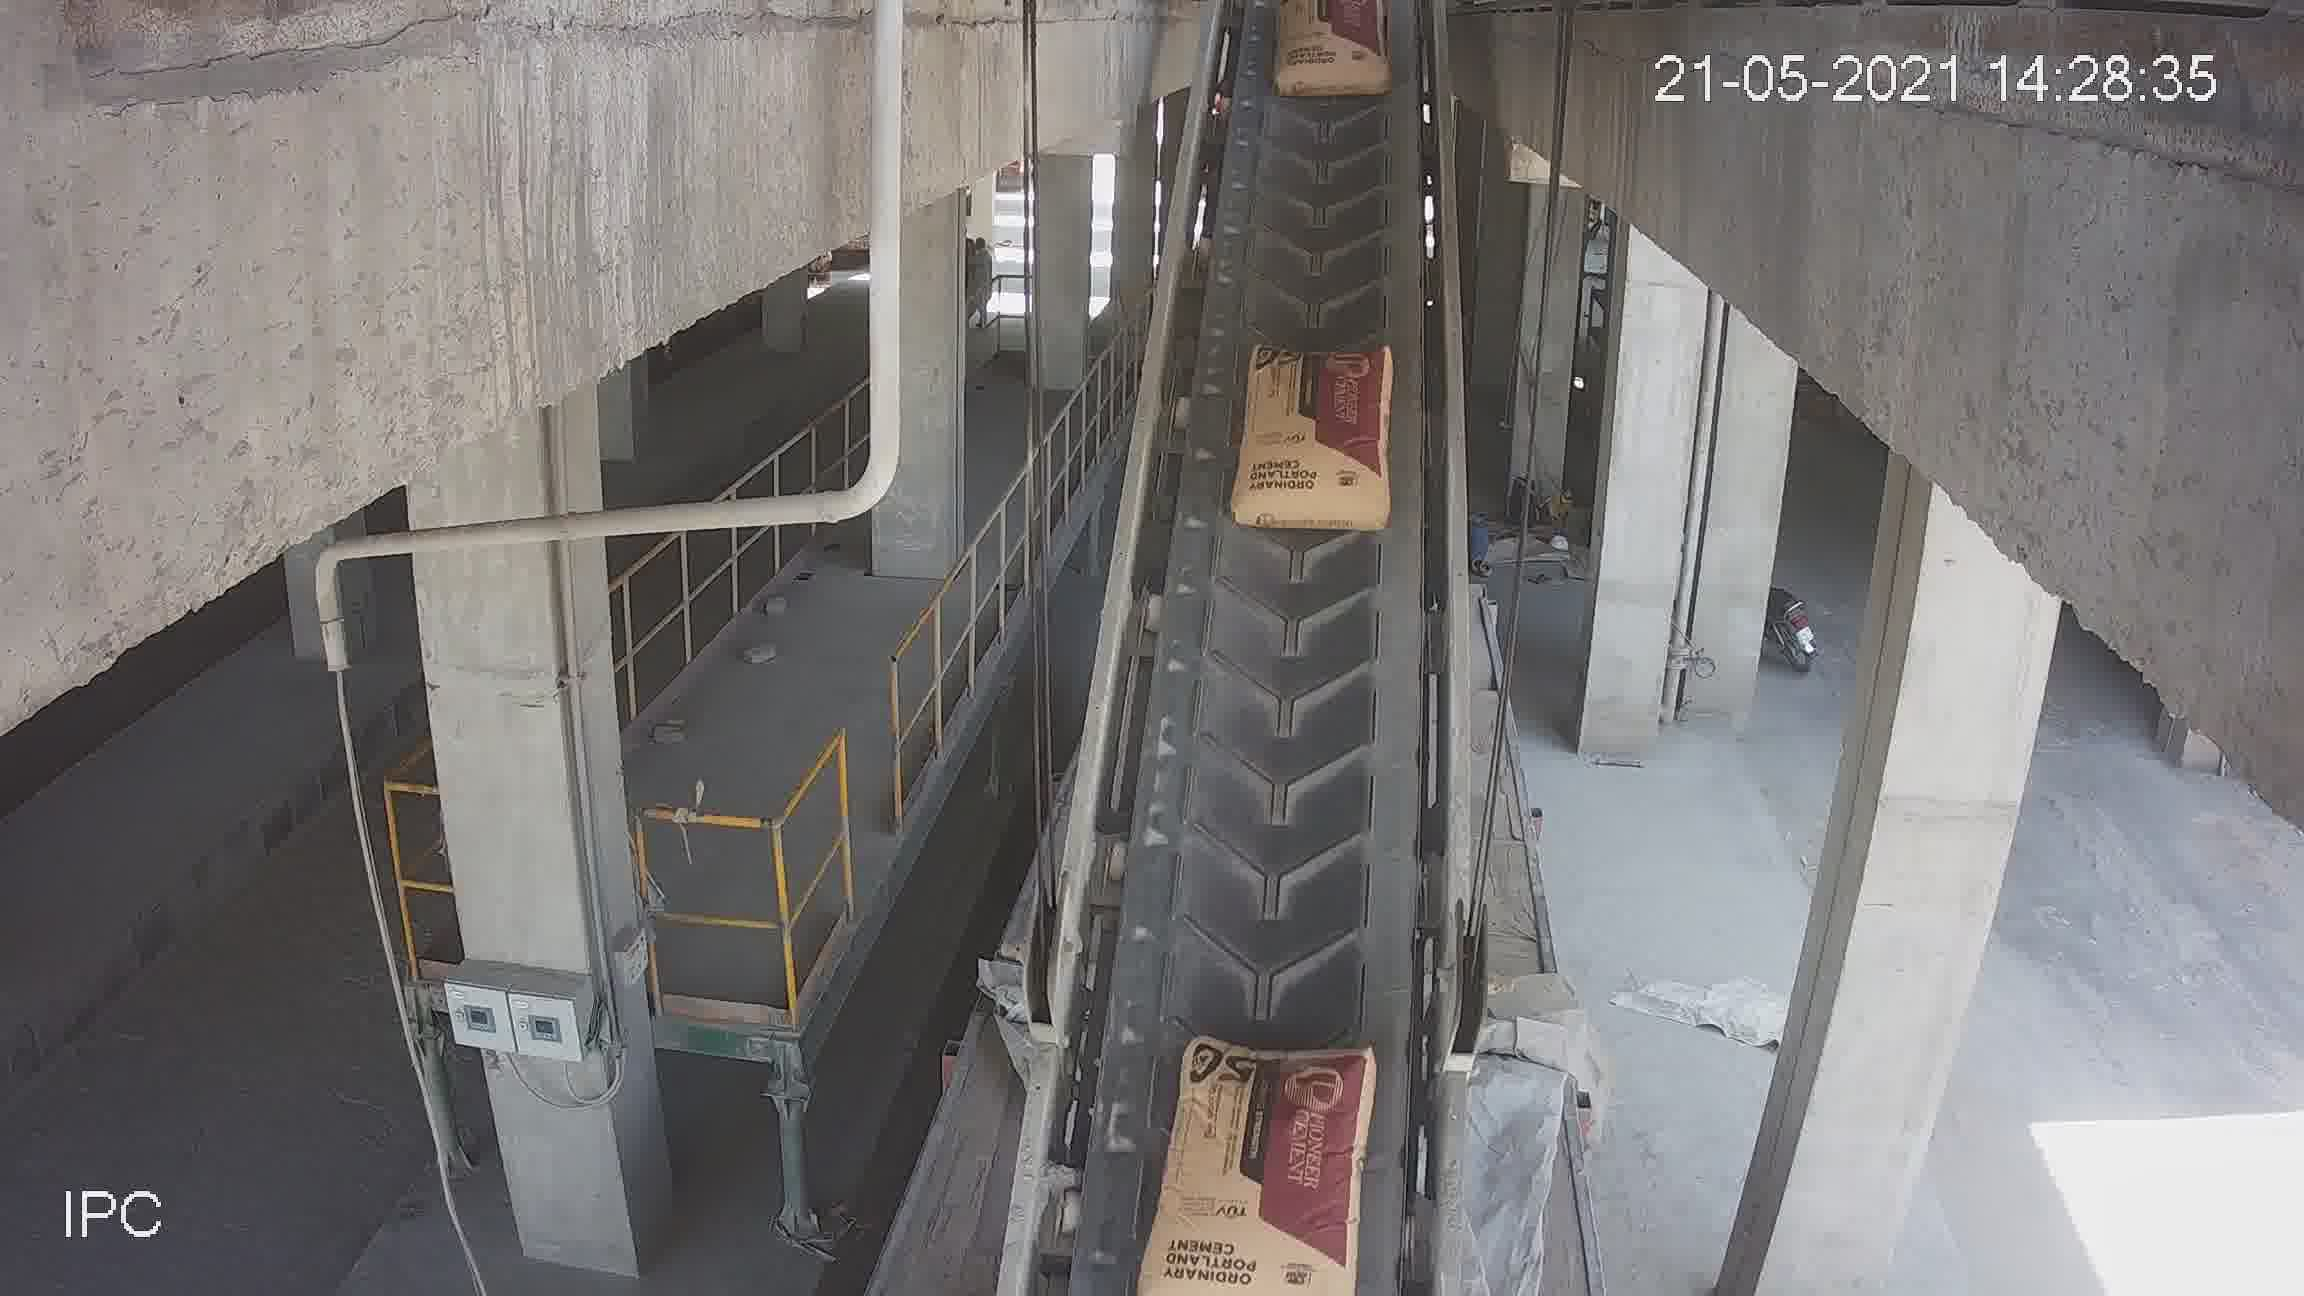bag: (1146, 1044, 1359, 1274), (1239, 350, 1394, 541), (1290, 0, 1388, 90)
belt: (1057, 21, 1472, 1290)
